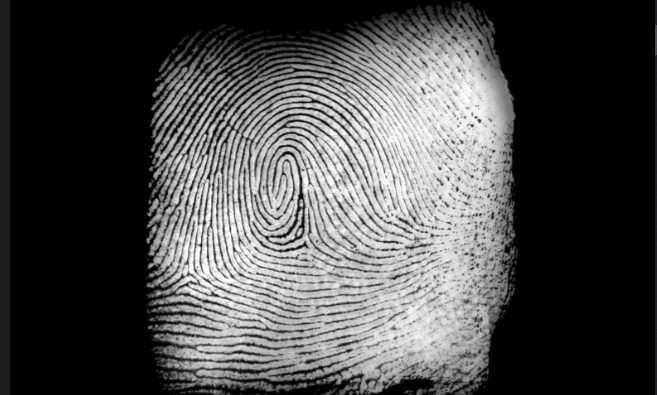nucelo: (268, 150, 300, 214)
verticilo: (172, 261, 204, 291), (288, 225, 318, 251)
